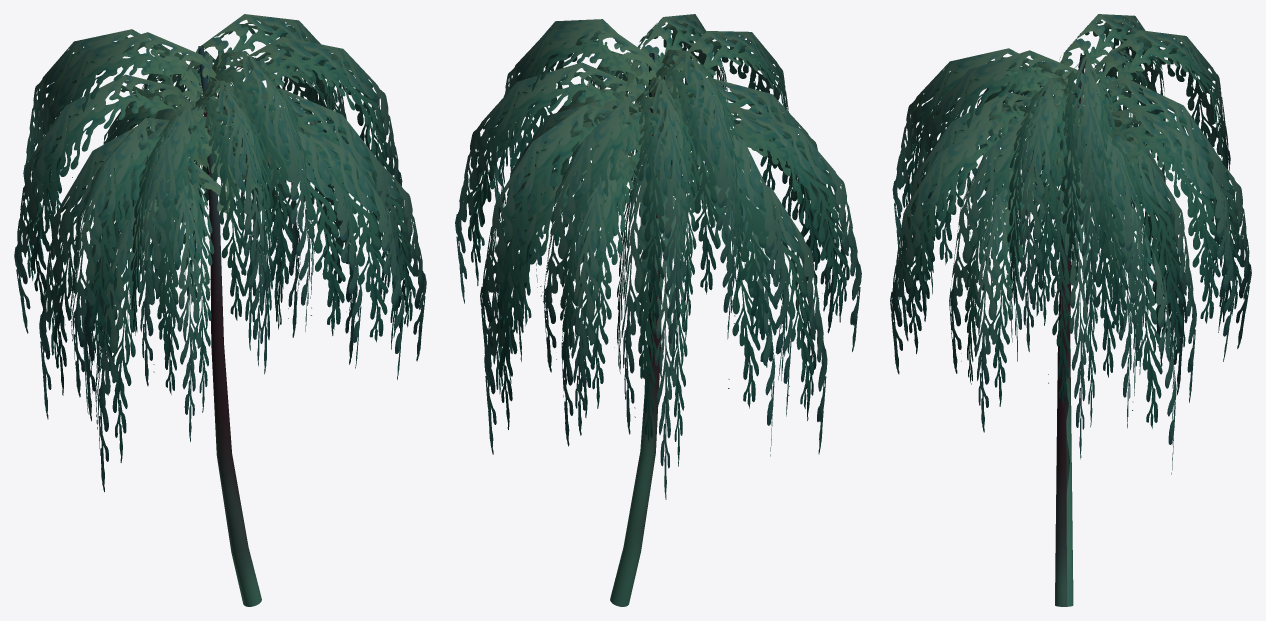
Rendered from basic tree 4.fbx.
3 views of the same model, side by side, from view 1: azimuth 30°, elevation 25°; view 2: azimuth 150°, elevation 25°; view 3: azimuth 270°, elevation 25° (orthographic). The views are drawn at different scales.
Visible parts, largest first — view 1: pPlane46, pPlane44, pPlane47, pPlane49, pPlane45, pPlane43, pCylinder3, pPlane51, pPlane50, pPlane48; view 2: pPlane47, pPlane48, pPlane43, pPlane50, pPlane46, pPlane49, pPlane51, pPlane44, pCylinder3, pPlane45; view 3: pPlane43, pPlane45, pPlane48, pPlane51, pPlane44, pPlane47, pPlane50, pCylinder3, pPlane46, pPlane49.
Part boxes in pixels (bbox=[...]): pPlane46: bbox=[70, 101, 219, 441]; pPlane44: bbox=[194, 51, 362, 368]; pPlane47: bbox=[14, 29, 226, 333]; pPlane49: bbox=[39, 115, 235, 491]; pPlane45: bbox=[217, 88, 426, 379]; pPlane43: bbox=[179, 14, 402, 239]; pCylinder3: bbox=[198, 45, 261, 606]; pPlane51: bbox=[188, 85, 356, 374]; pPlane50: bbox=[81, 106, 235, 414]; pPlane48: bbox=[103, 51, 236, 272]; pPlane47: bbox=[633, 49, 786, 379]; pPlane48: bbox=[480, 95, 666, 435]; pPlane43: bbox=[455, 19, 670, 303]; pPlane50: bbox=[561, 104, 691, 499]; pPlane46: bbox=[652, 77, 861, 351]; pPlane49: bbox=[655, 104, 827, 456]; pPlane51: bbox=[484, 99, 679, 454]; pPlane44: bbox=[623, 14, 791, 216]; pCylinder3: bbox=[610, 53, 661, 606]; pPlane45: bbox=[535, 51, 679, 287]; pPlane43: bbox=[1007, 55, 1149, 374]; pPlane45: bbox=[890, 111, 1073, 432]; pPlane48: bbox=[1072, 77, 1251, 361]; pPlane51: bbox=[1047, 121, 1176, 474]; pPlane44: bbox=[892, 48, 1087, 340]; pPlane47: bbox=[1056, 14, 1230, 208]; pPlane50: bbox=[1020, 97, 1196, 402]; pCylinder3: bbox=[1055, 53, 1085, 606]; pPlane46: bbox=[922, 61, 1084, 308]; pPlane49: bbox=[1009, 96, 1133, 361].
Size of the model in its own units: 1.02 by 1.67 by 0.9905.
